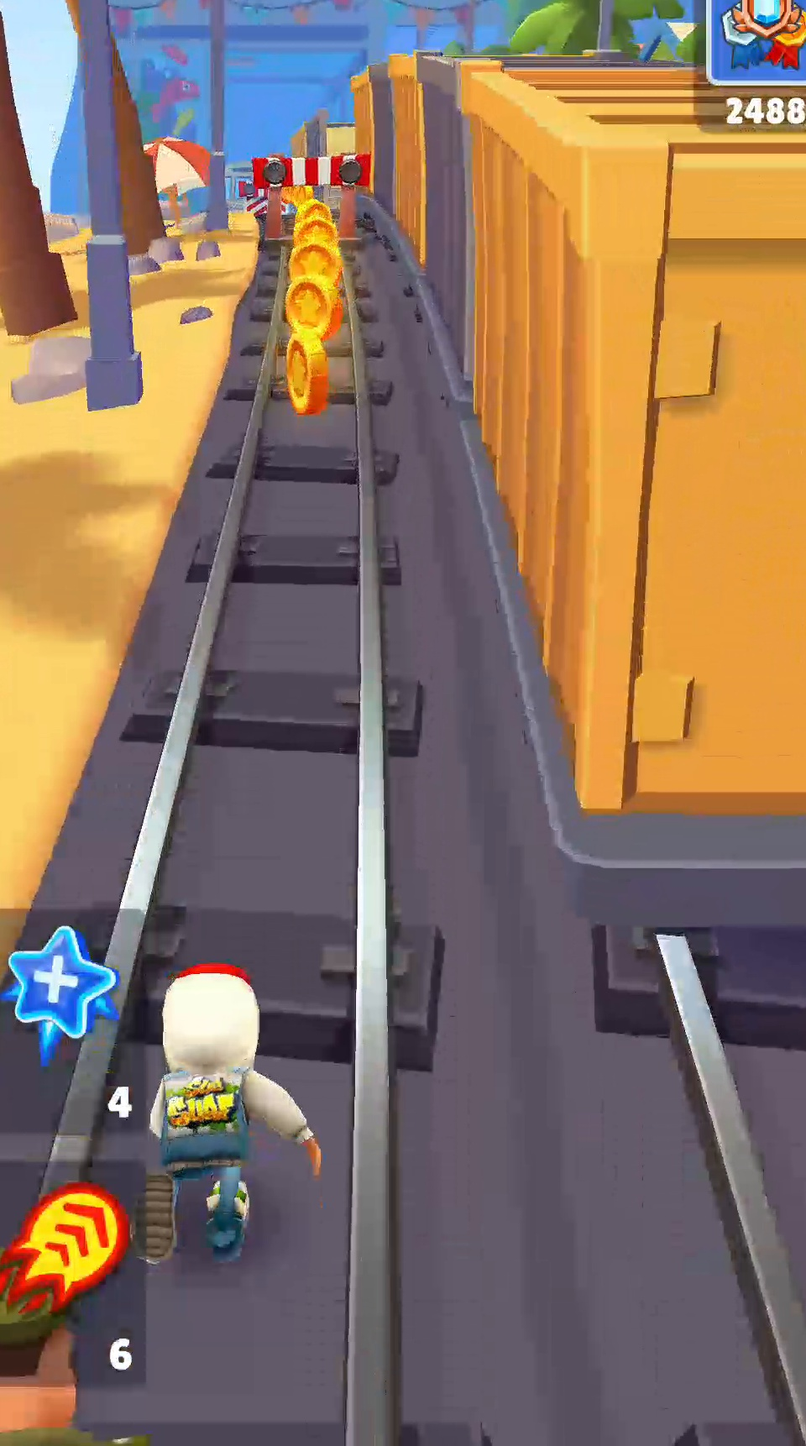blocker: (254, 154, 370, 239)
climber: (326, 124, 357, 155)
train: (353, 55, 805, 928)
